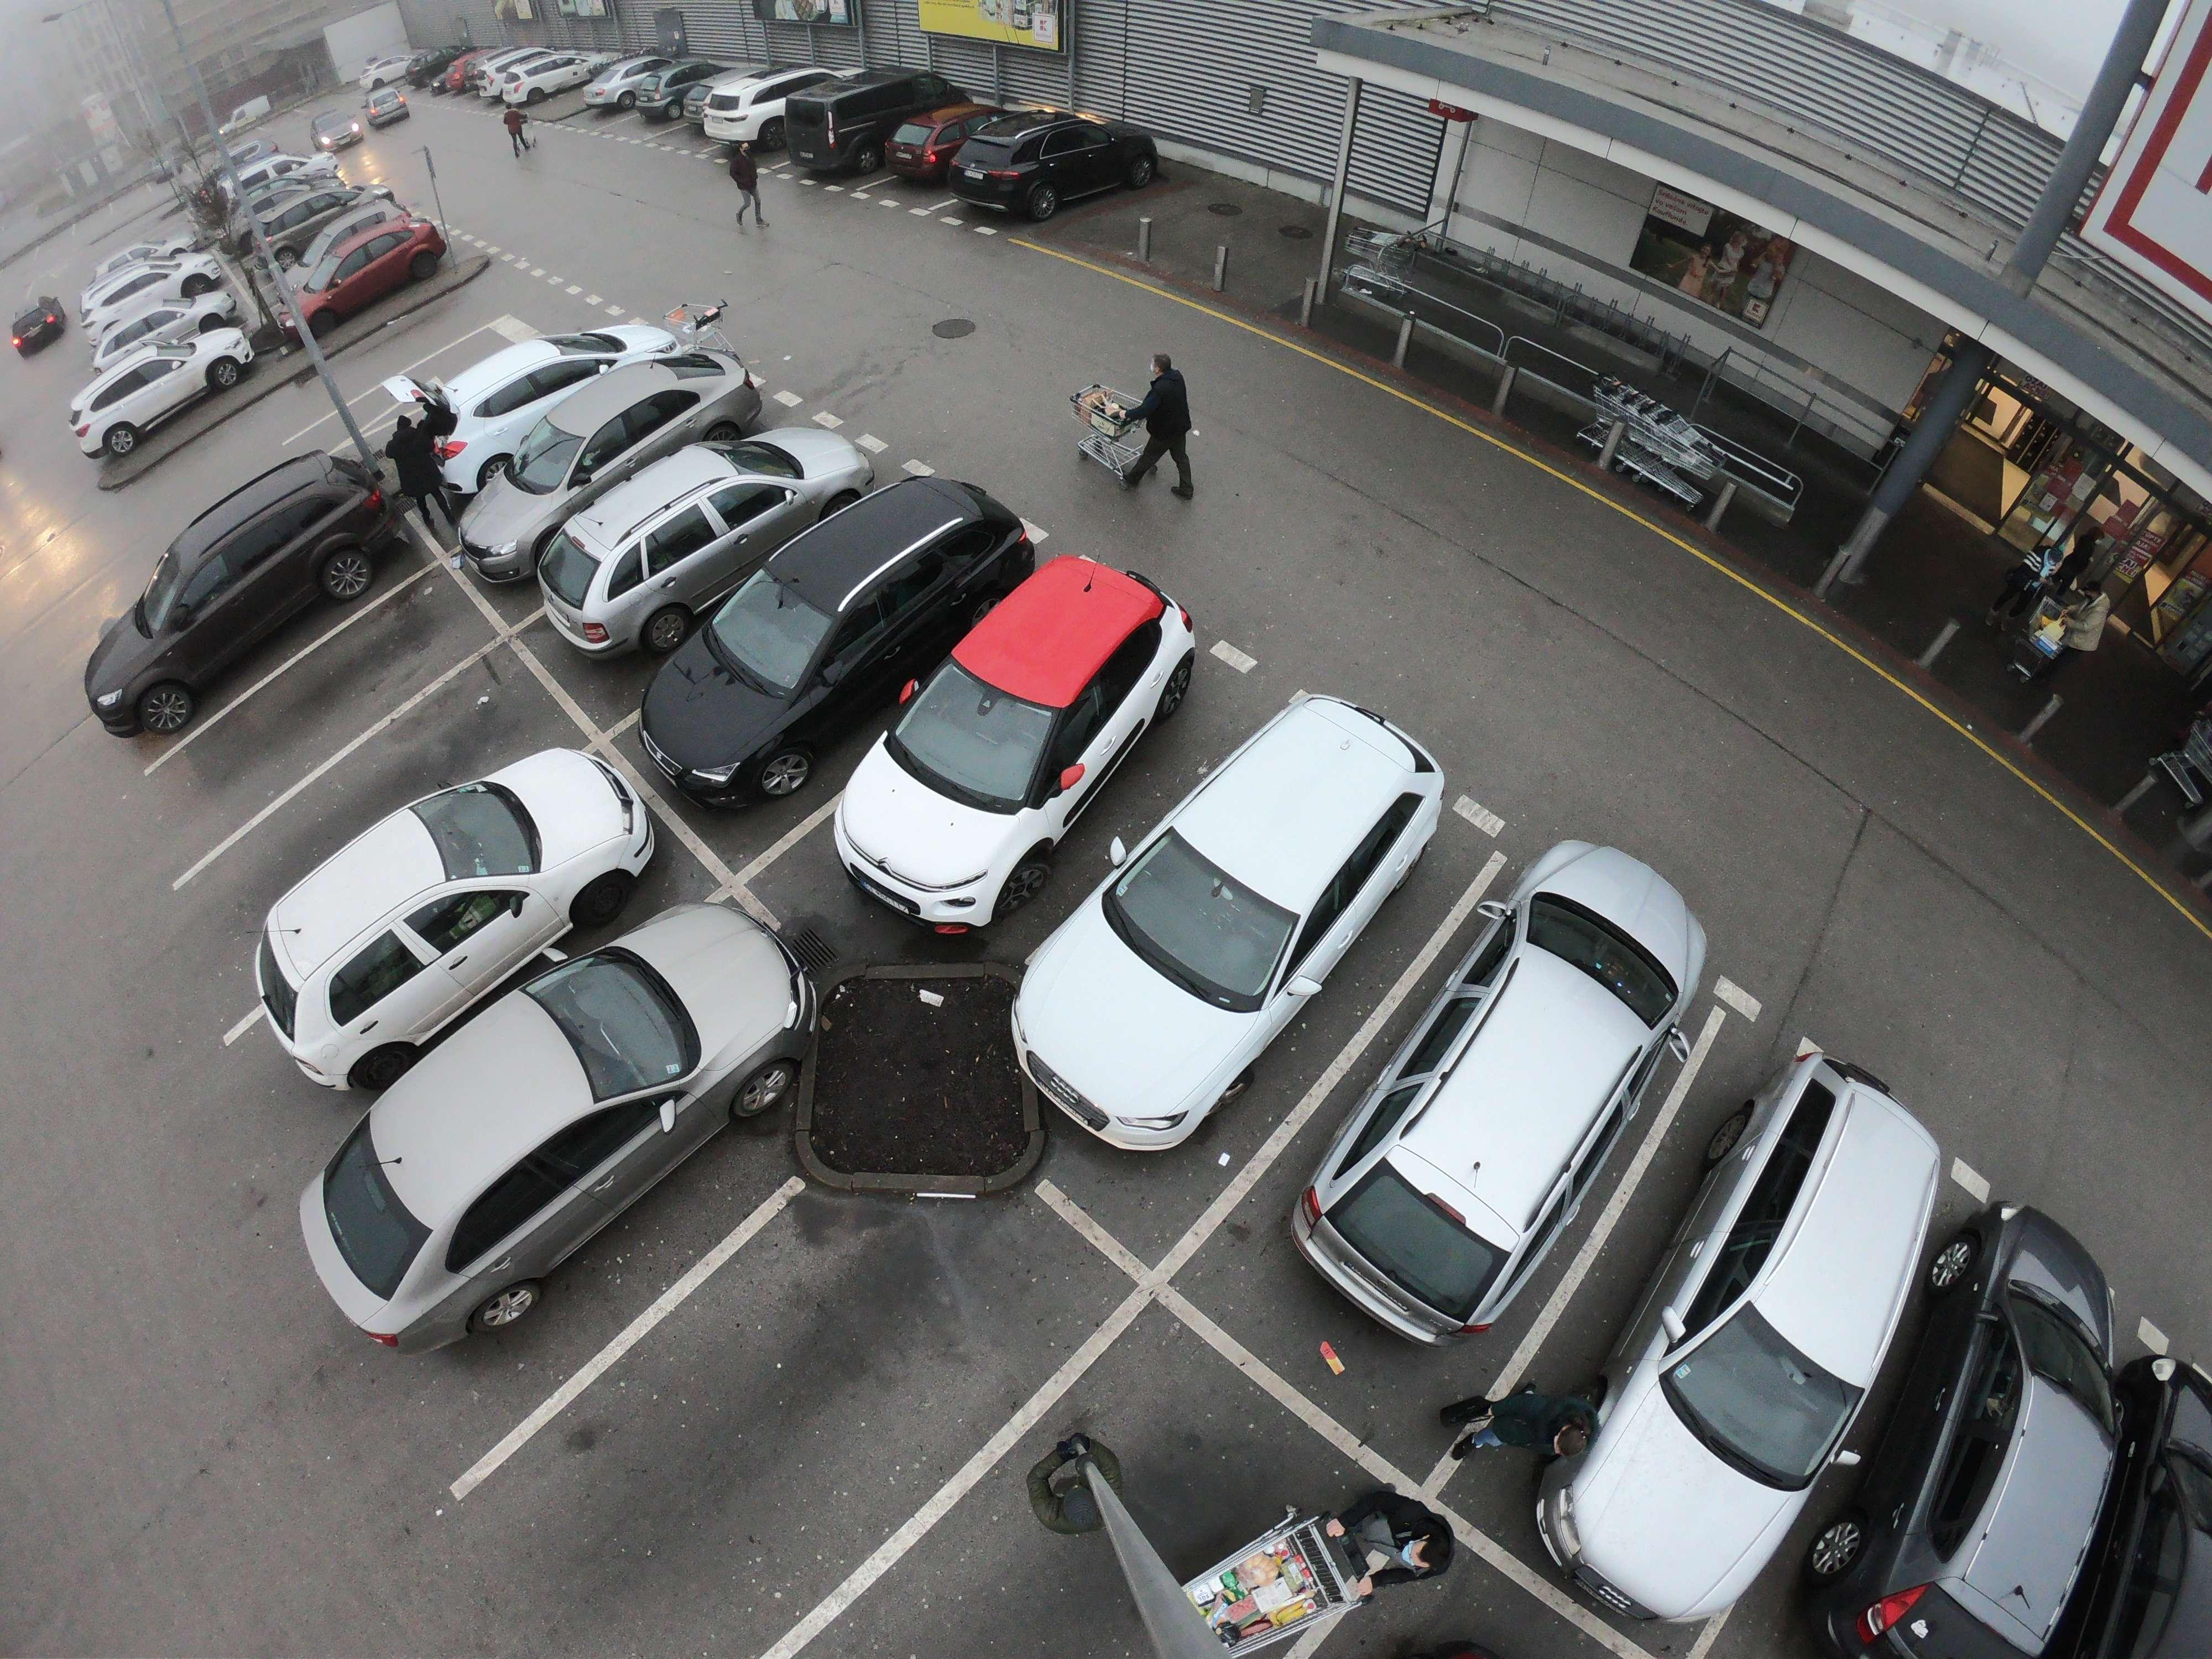empty: (1590, 1026, 1984, 1633), (312, 908, 829, 1358), (1029, 683, 1451, 1164), (1320, 847, 1716, 1352), (840, 559, 1195, 925), (1883, 1201, 2137, 1659), (284, 769, 646, 1070), (665, 483, 989, 793), (115, 441, 387, 718), (549, 425, 850, 633), (462, 354, 742, 535), (404, 322, 667, 443), (942, 106, 1172, 230), (82, 335, 251, 460), (282, 218, 439, 333), (78, 258, 232, 345), (691, 63, 836, 150), (880, 91, 1001, 185), (620, 52, 728, 127)
occupied: (664, 1295, 921, 1492), (246, 647, 406, 760), (348, 708, 519, 800), (373, 295, 481, 368)
